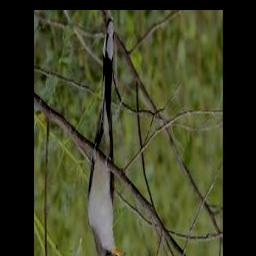Cuckoo: (87, 20, 126, 256)
